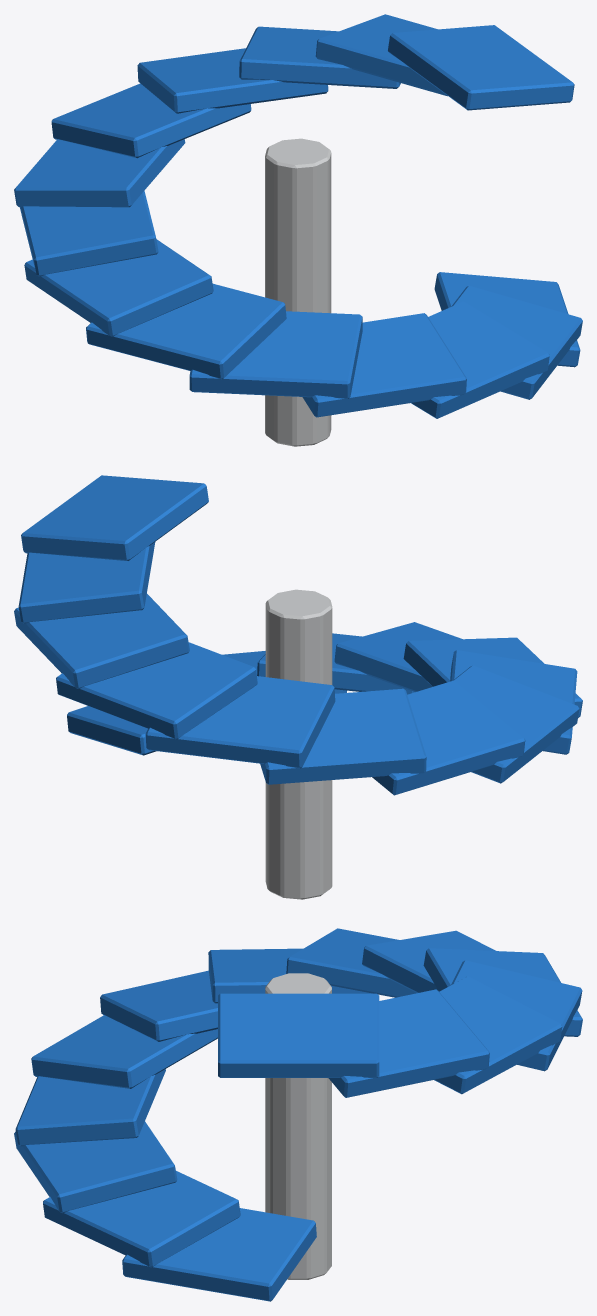
The model's file is ramp_spiral.glb.
3 renders of one model, top to bottom at view 1: azimuth 30°, elevation 25°; view 2: azimuth 150°, elevation 25°; view 3: azimuth 270°, elevation 25°, orthographic.
Visible parts, largest first — view 1: ramp_spiral; view 2: ramp_spiral; view 3: ramp_spiral.
Part boxes in pixels (x1=…): ramp_spiral: x1=14, y1=14, x2=582, y2=446; ramp_spiral: x1=14, y1=475, x2=582, y2=899; ramp_spiral: x1=14, y1=928, x2=582, y2=1301.
Bounding box in the file's own units: 0.91 × 0.6023 × 0.9168.
